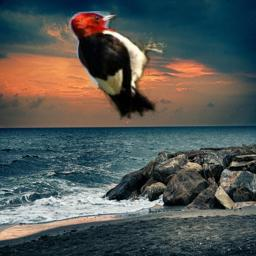Woodpecker: (68, 11, 167, 120)
